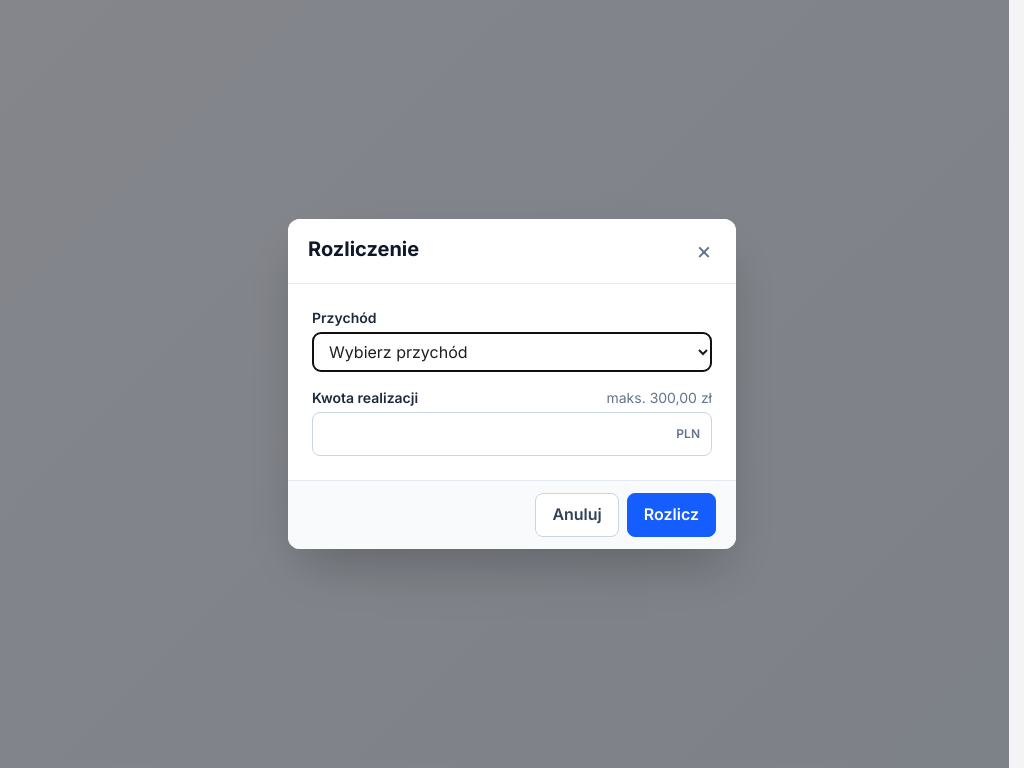
Test: AllocationModal › nie pozwala przekroczyć mniejszej z dostępnych kwot
Select "Vinted - dostępne 100,00 zł" in the dropdown at (512, 352), box [312,332,712,372]
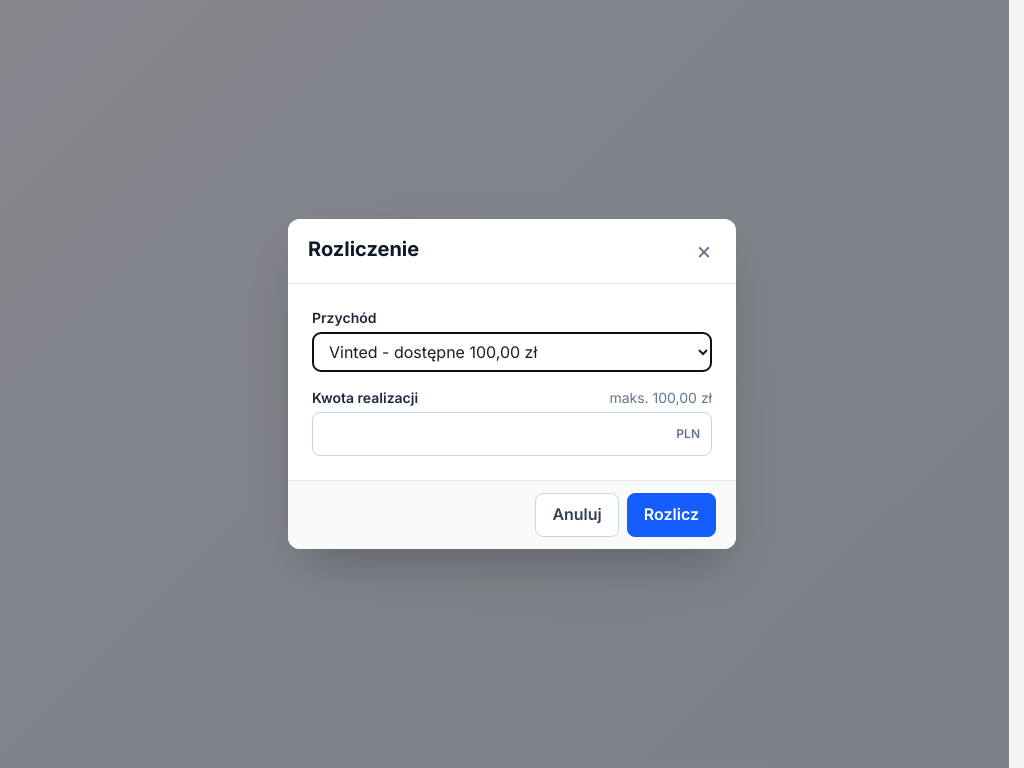
Type "100,01" into the field at (512, 434), box [312,412,712,456]
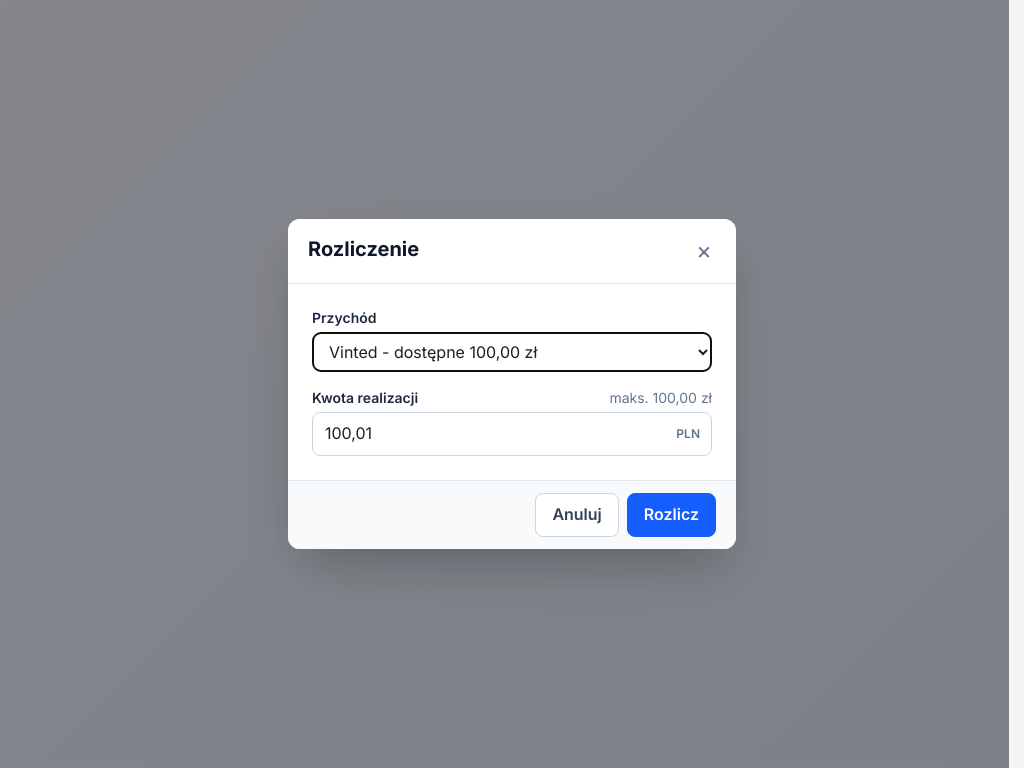
Click the button "Rozlicz" at (671, 515), box [627,493,716,537]
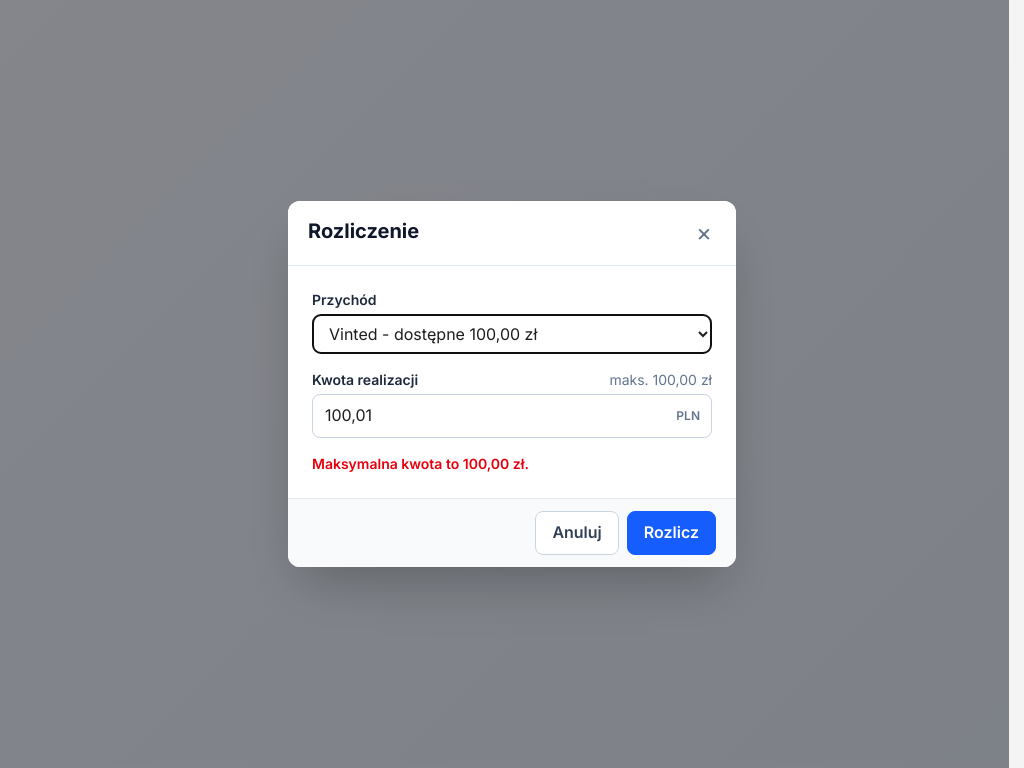
Now the text "Maksymalna kwota to 100,00 zł." is shown, box [312,455,529,472]
